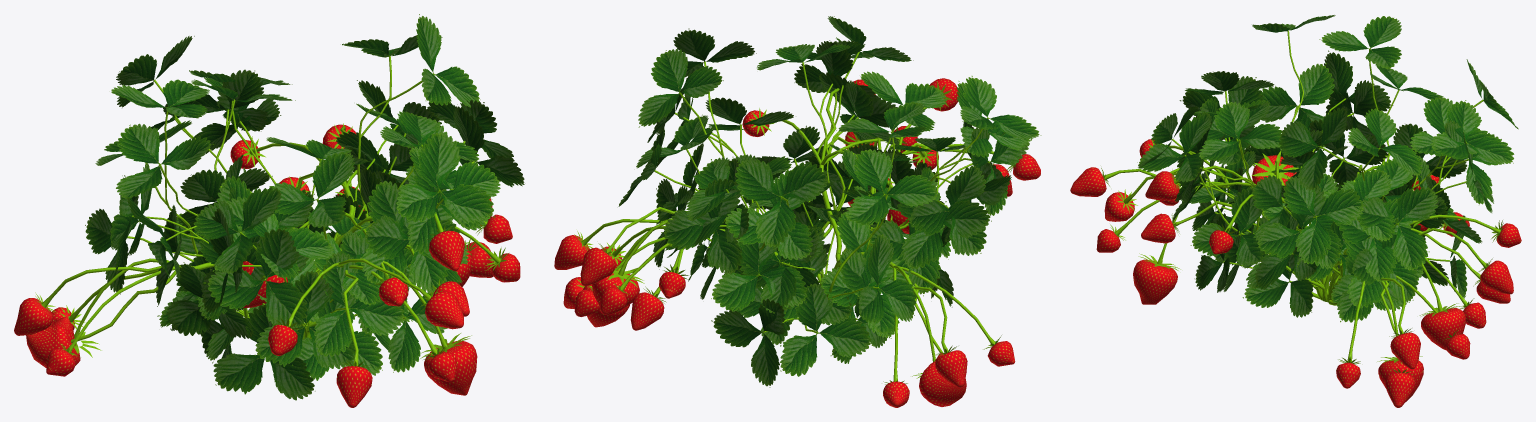
Rendered from strawberry_plant_06.obj.
3 views of the same model, side by side, from view 1: azimuth 30°, elevation 25°; view 2: azimuth 150°, elevation 25°; view 3: azimuth 270°, elevation 25° (orthographic). The views are drawn at different scales.
Visible parts, largest first — view 1: Strawberry_006; view 2: Strawberry_006; view 3: Strawberry_006.
Boxes of the visible parts, x1,y1,x2,y2 form: Strawberry_006: (14,14,524,407); Strawberry_006: (554,16,1041,407); Strawberry_006: (1070,15,1521,407).
Bounding box in the file's own units: 0.5165 × 0.3334 × 0.5094.
5 materials, 5 textured.
